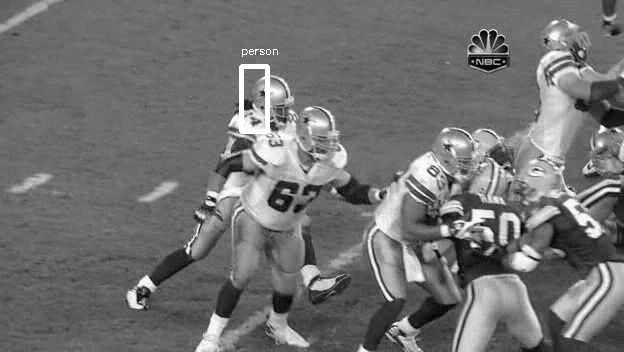person: (259, 76, 294, 121), (258, 76, 293, 121), (260, 76, 295, 121), (259, 75, 294, 120), (259, 77, 294, 122)
target_negative: (74, 18, 347, 137), (133, 282, 359, 306), (553, 148, 570, 312), (538, 224, 580, 258), (568, 229, 584, 294), (577, 157, 610, 158)
